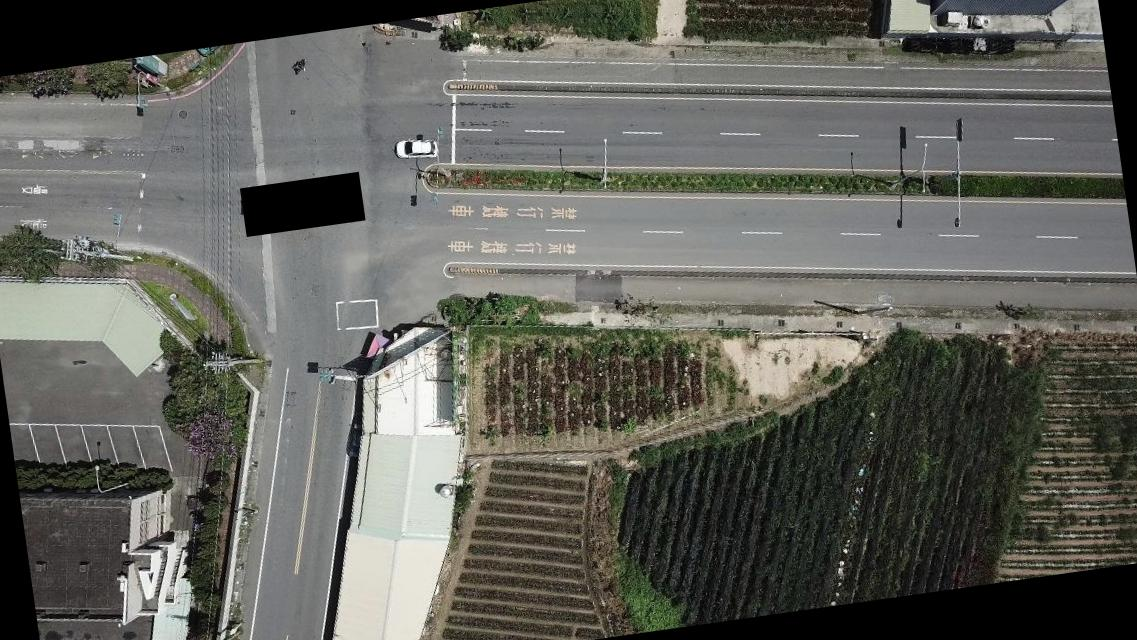vehicle: (392, 134, 437, 162)
